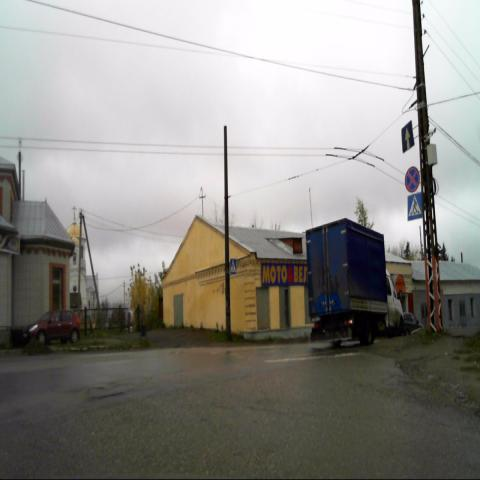5_5: (402, 120, 414, 153)
